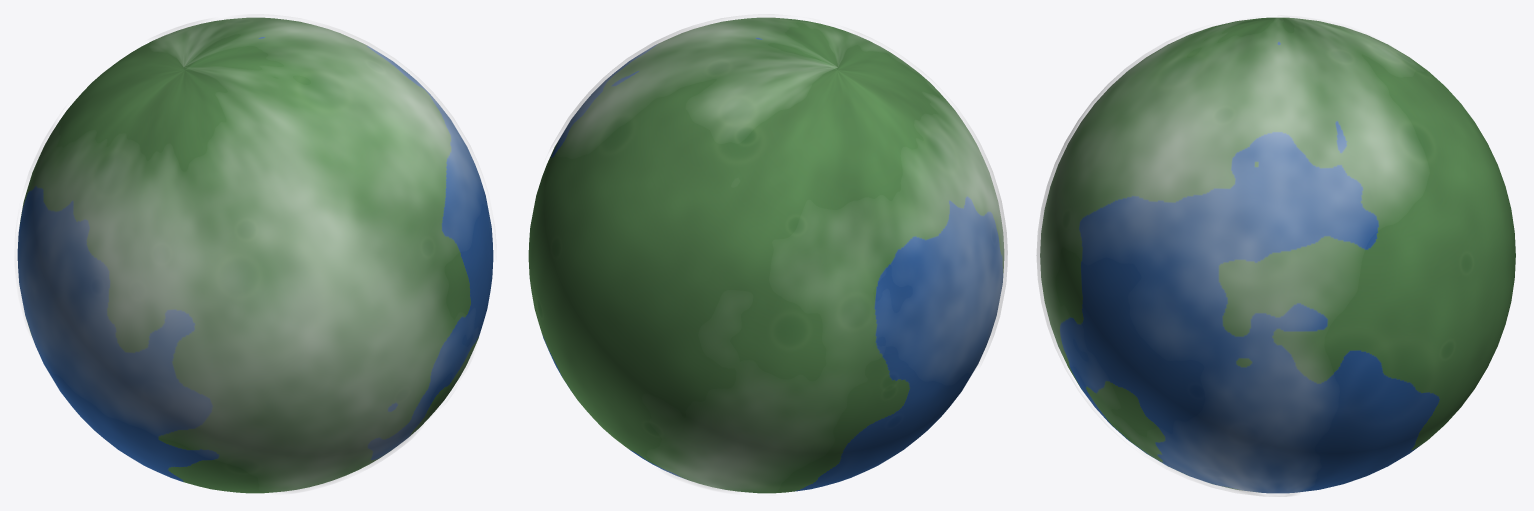
File: eden-t3.glb
3 renders of one model, left to right at view 1: azimuth 30°, elevation 25°; view 2: azimuth 150°, elevation 25°; view 3: azimuth 270°, elevation 25°, orthographic.
Parts seen in each view (by area): view 1: Surface, Clouds; view 2: Surface, Clouds; view 3: Surface, Clouds.
Part boxes in pixels (<box>): Surface: <box>17,17,493,493</box>; Clouds: <box>20,14,495,493</box>; Surface: <box>528,17,1004,493</box>; Clouds: <box>551,14,1007,492</box>; Surface: <box>1040,17,1515,493</box>; Clouds: <box>1036,15,1420,496</box>.
Bounding box in the file's own units: 2.03 × 2.03 × 2.03.
2 materials, 2 textured.
